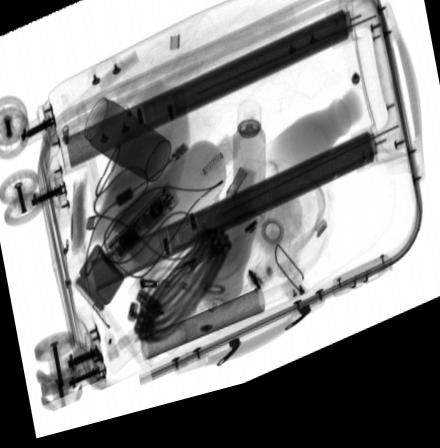Sprayer: (232, 112, 266, 241)
